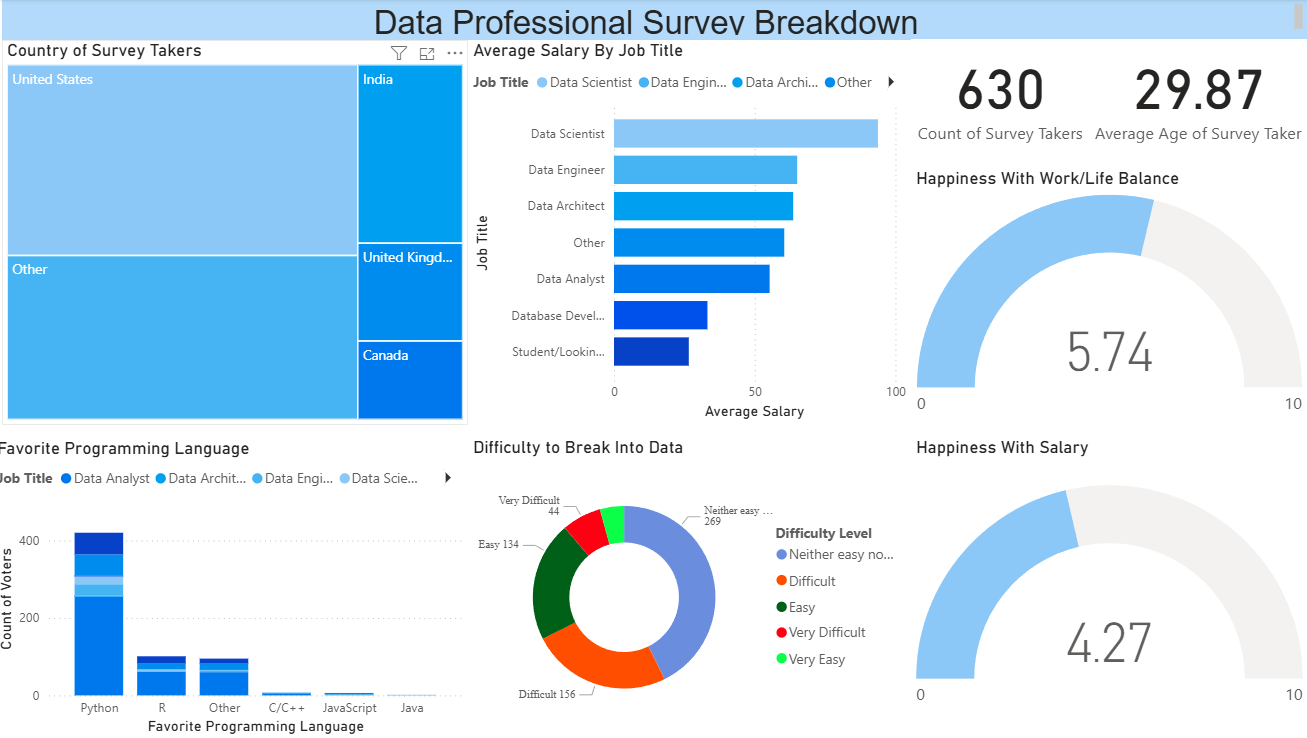

Layout of this report page (visuals, bound fields, positions):
{"tool":"powerbi","page":{"name":"Page 1","canvas":[1280,720],"ordinal":0},"visuals":[{"type":"textbox","box":[9.7,0,1270.3,39.9],"z":0},{"type":"card","fields":{"Values":["Count(Data Professional Survey.Unique ID)"]},"box":[893.8,39,173.6,105.7],"z":1000},{"type":"card","fields":{"Values":["Avg(Data Professional Survey.Q10 - Current Age)"]},"box":[1067.4,39,212.6,105.7],"z":2000},{"type":"barChart","title":"Average Salary By Job Title","fields":{"Category":["Data Professional Survey.Q1 - Which Title Best Fits your Current Role?.1"],"Y":["Avg(Data Professional Survey.Average Salary)"],"Series":["Data Professional Survey.Q1 - Which Title Best Fits your Current Role?.1"]},"box":[463,40.1,430.7,374],"z":3000},{"type":"columnChart","title":"Favorite Programming Language","fields":{"Category":["Data Professional Survey.Q5 - Favorite Programming Language.1"],"Y":["CountNonNull(Data Professional Survey.Unique ID)"],"Series":["Data Professional Survey.Q1 - Which Title Best Fits your Current Role?.1"]},"box":[0,426.7,462.5,293.7],"z":4000},{"type":"treemap","title":"Country of Survey Takers","fields":{"Group":["Data Professional Survey.Q11 - Which Country do you live in?.1"],"Values":["CountNonNull(Data Professional Survey.Q11 - Which Country do you live in?.1)"]},"box":[10,40.1,453,374],"z":5000},{"type":"gauge","title":"Happiness With Work/Life Balance","fields":{"Y":["Avg(Data Professional Survey.Q6 - How Happy are you in your Current Position with the following? (Work/Life Balance))"],"MinValue":["Min(Data Professional Survey.Q6 - How Happy are you in your Current Position with the following? (Work/Life Balance))1"],"MaxValue":["Max(Data Professional Survey.Q6 - How Happy are you in your Current Position with the following? (Work/Life Balance))2"]},"box":[893.8,164.7,386.2,249.3],"z":6000},{"type":"gauge","title":"Happiness With Salary","fields":{"Y":["Avg(Data Professional Survey.Q6 - How Happy are you in your Current Position with the following? (Salary))"],"MinValue":["Min(Data Professional Survey.Q6 - How Happy are you in your Current Position with the following? (Salary))"],"MaxValue":["Max(Data Professional Survey.Q6 - How Happy are you in your Current Position with the following? (Salary))"]},"box":[893.8,426.3,386.2,293.8],"z":7000},{"type":"donutChart","title":"Difficulty to Break Into Data","fields":{"Category":["Data Professional Survey.Q7 - How difficult was it for you to break into Data?"],"Y":["CountNonNull(Data Professional Survey.Q7 - How difficult was it for you to break into Data?)"]},"box":[463,426.3,430.7,292.7],"z":8000}]}

Visuals, with their boxes in screenshot pixels (x1, y1, x2, y2), scaled from the page's 1280x720 canvas onto the 1307x738 screenshot:
textbox: 10,0,1306,41
card - Count(Data Professional Survey.Unique ID): 913,40,1090,148
card - Avg(Data Professional Survey.Q10 - Current Age): 1090,40,1306,148
"Average Salary By Job Title" barChart: 473,41,913,424
"Favorite Programming Language" columnChart: 0,437,472,737
"Country of Survey Takers" treemap: 10,41,473,424
"Happiness With Work/Life Balance" gauge: 913,169,1306,424
"Happiness With Salary" gauge: 913,437,1306,737
"Difficulty to Break Into Data" donutChart: 473,437,913,737
